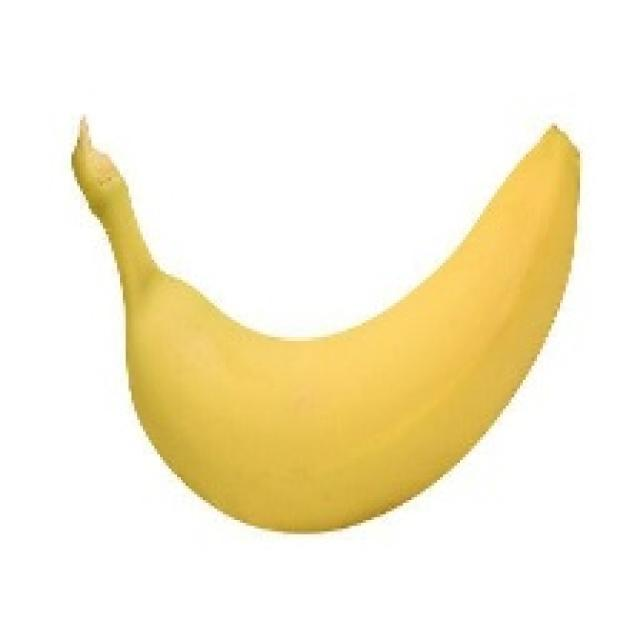Banana: (69, 111, 580, 534)
